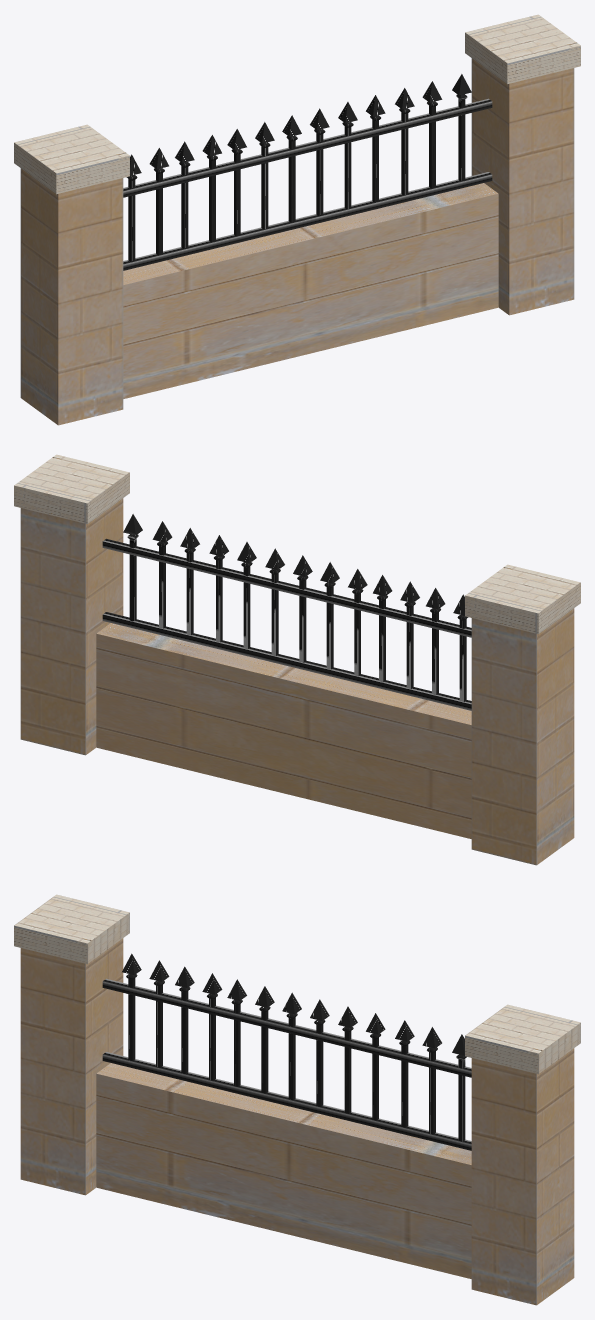
The model's file is Wall.FBX.
3 views of the same model, one above another, from view 1: azimuth 30°, elevation 25°; view 2: azimuth 150°, elevation 25°; view 3: azimuth 330°, elevation 25° (orthographic).
Visible parts, largest first — view 1: pCube1; view 2: pCube1; view 3: pCube1.
Part boxes in pixels (bbox=[...]): pCube1: bbox=[14, 14, 580, 425]; pCube1: bbox=[14, 454, 580, 865]; pCube1: bbox=[14, 894, 580, 1305].
Bounding box in the file's own units: 116 × 53.99 × 16.3.
